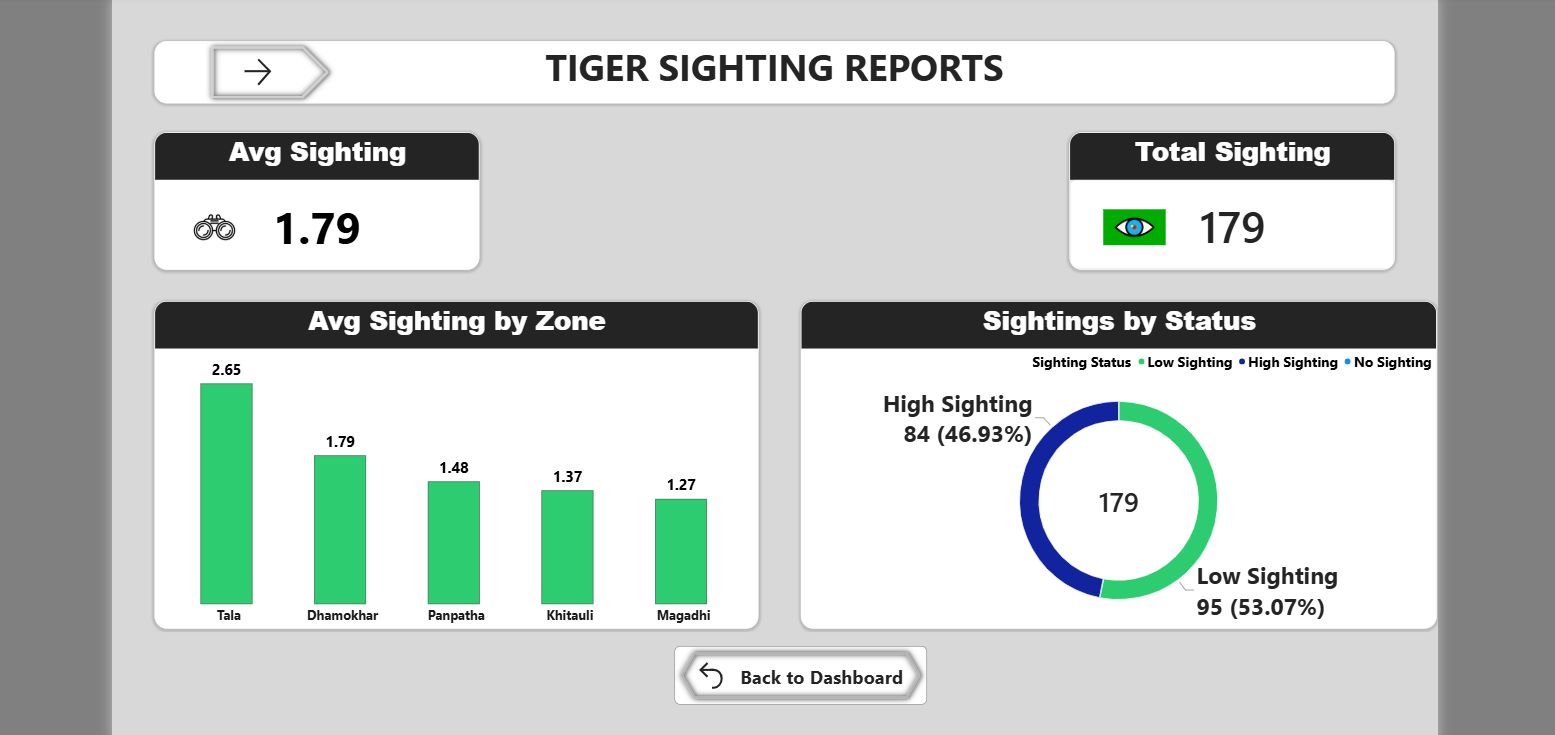

The page's visual inventory and layout, read from the dashboard file:
{"tool":"powerbi","page":{"name":"Page 4","canvas":[1920,1080],"ordinal":3},"visuals":[{"type":"textbox","box":[61.5,65.1,1795.2,90.5],"z":0},{"type":"actionButton","box":[135.7,65.1,186.4,90.5],"z":1000},{"type":"actionButton","box":[814.3,941,365.6,85.1],"z":2000},{"type":"card","title":"Avg Sighting","fields":{"Values":["tiger_sighting.Avg Sighting Count"]},"box":[61.5,197.3,470.5,199.1],"z":3000},{"type":"image","box":[103.2,296.8,90.5,76],"z":4000},{"type":"cardVisual","title":"Total Sighting","fields":{"Data":["safari_bookings.Total Sighting"]},"box":[1386.2,197.3,471,199],"z":5000},{"type":"image","box":[1435.1,296.8,90.5,76],"z":6000},{"type":"clusteredColumnChart","title":"Avg Sighting by Zone","fields":{"Category":["Dim_Zone.Zone"],"Y":["tiger_sighting.Avg Sighting Count"]},"box":[61.5,441.6,874.1,474.1],"z":7000},{"type":"donutChart","title":"Sightings by Status","fields":{"Category":["tiger_sighting.Sighting Status"],"Y":["Sum(tiger_sighting.Sighting_Count)"]},"box":[997.1,441.6,921,474],"z":8000}]}

Visuals, with their boxes on the page's 1920x1080 design canvas (x1, y1, x2, y2). These are canvas units, not pixel positions in the 1555x735 screenshot, which may show the page scaled, cropped or inside an application window:
textbox: BBox(62, 65, 1857, 156)
actionButton: BBox(136, 65, 322, 156)
actionButton: BBox(814, 941, 1180, 1026)
"Avg Sighting" card: BBox(62, 197, 532, 396)
image: BBox(103, 297, 194, 373)
"Total Sighting" cardVisual: BBox(1386, 197, 1857, 396)
image: BBox(1435, 297, 1526, 373)
"Avg Sighting by Zone" clusteredColumnChart: BBox(62, 442, 936, 916)
"Sightings by Status" donutChart: BBox(997, 442, 1918, 916)
